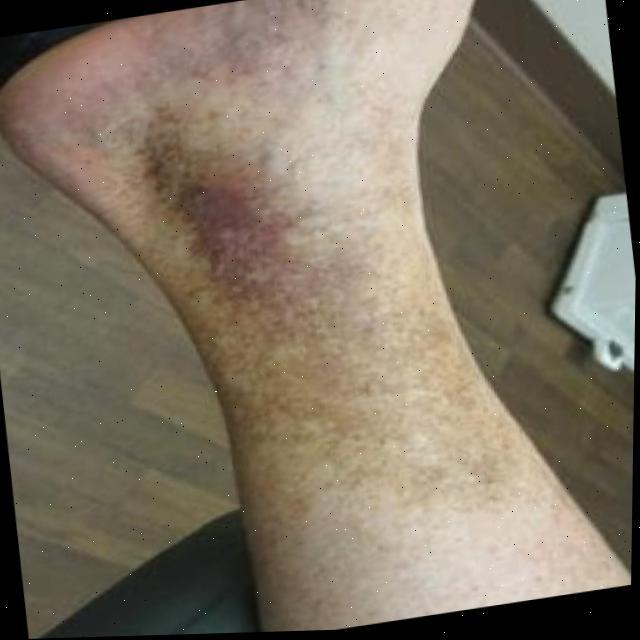Eczema: (66, 1, 513, 574)
